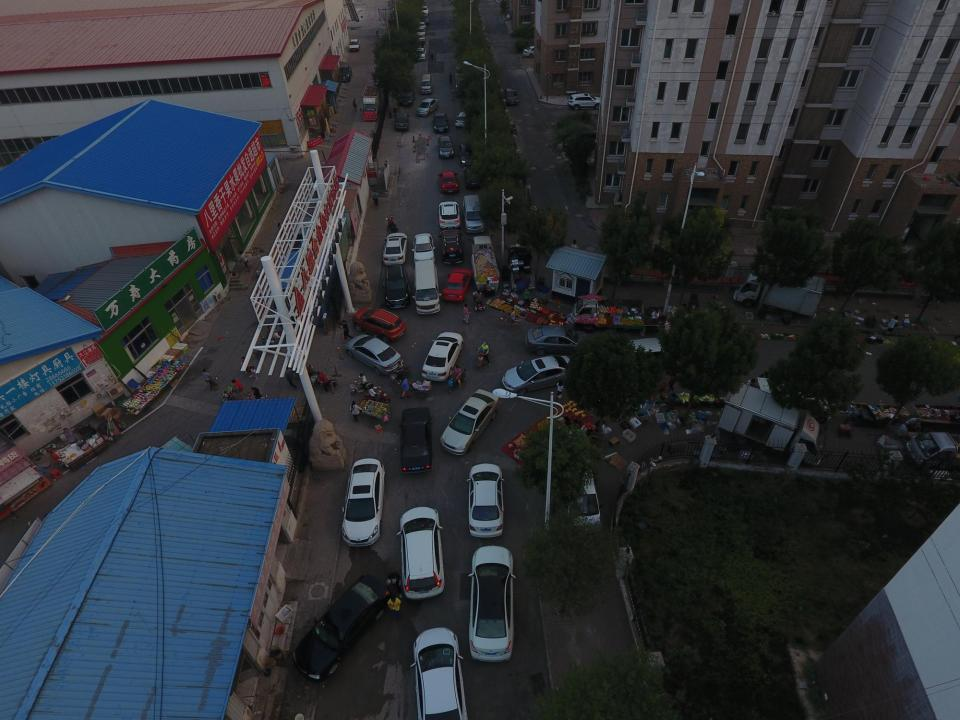car: (292, 574, 392, 679), (467, 545, 517, 662), (410, 627, 466, 720), (398, 507, 446, 598), (440, 388, 500, 455), (341, 458, 385, 546), (466, 463, 504, 538), (502, 356, 572, 396), (397, 406, 434, 474), (345, 334, 403, 374), (422, 332, 464, 382), (526, 325, 589, 355), (352, 308, 406, 341), (381, 265, 411, 309), (442, 268, 471, 301), (383, 233, 408, 265), (412, 234, 436, 264), (437, 202, 461, 229), (568, 93, 604, 110), (458, 144, 478, 167), (438, 172, 458, 194), (416, 98, 439, 116), (463, 166, 482, 187), (437, 137, 455, 158), (523, 45, 550, 58), (432, 113, 449, 132), (399, 88, 415, 106), (337, 64, 352, 82), (455, 112, 472, 127), (504, 88, 519, 105), (396, 113, 410, 130), (416, 47, 426, 61), (419, 14, 429, 24), (419, 6, 428, 16), (416, 27, 426, 35), (417, 34, 425, 42), (418, 22, 425, 27)
truck: (716, 382, 828, 469), (734, 272, 826, 321), (572, 298, 644, 332), (469, 236, 499, 291), (507, 244, 536, 291), (361, 85, 382, 121)
van: (755, 377, 831, 419), (561, 458, 602, 535), (412, 261, 442, 314), (627, 337, 674, 361), (463, 195, 484, 233), (420, 74, 432, 94)
